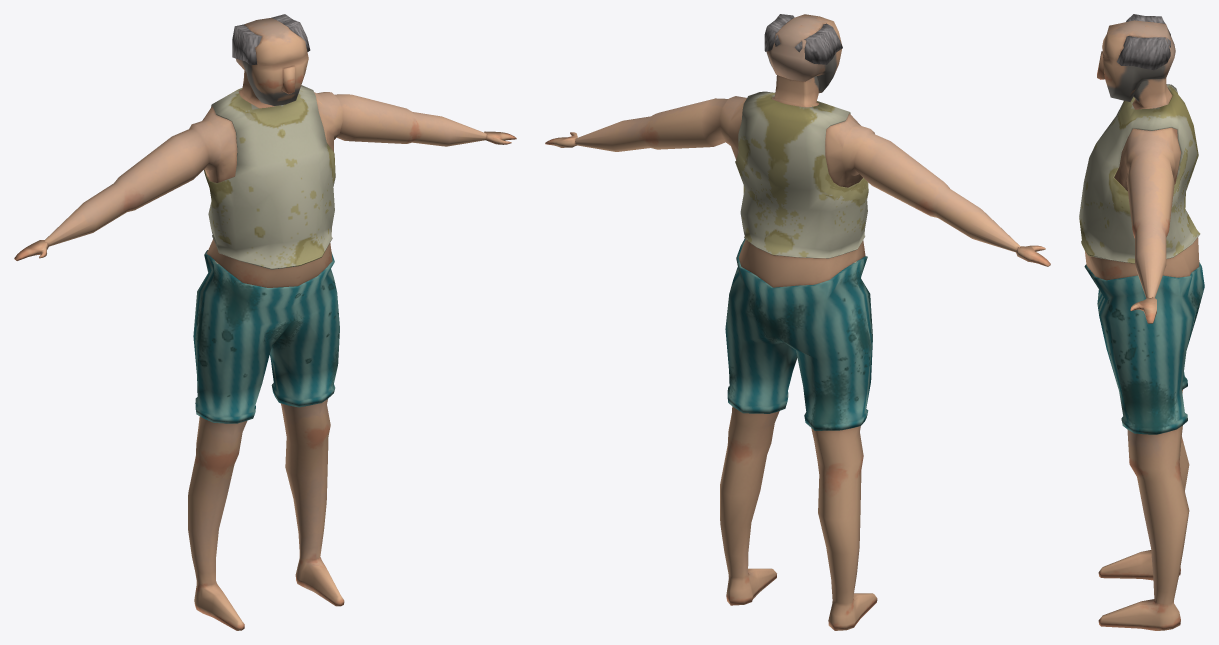
Rendered from Archie_NPC_T-pose.glb.
3 renders of one model, left to right at view 1: azimuth 30°, elevation 25°; view 2: azimuth 150°, elevation 25°; view 3: azimuth 270°, elevation 25°, orthographic.
Parts seen in each view (by area): view 1: SM_Archie_NPC.001; view 2: SM_Archie_NPC.001; view 3: SM_Archie_NPC.001.
Part boxes in pixels (box(x1,y1,x2,y2)): SM_Archie_NPC.001: box(14, 14, 516, 630); SM_Archie_NPC.001: box(545, 14, 1050, 630); SM_Archie_NPC.001: box(1079, 14, 1204, 630).
Bounding box in the file's own units: 1.64 × 1.82 × 0.3595.
1 material, 1 textured.
